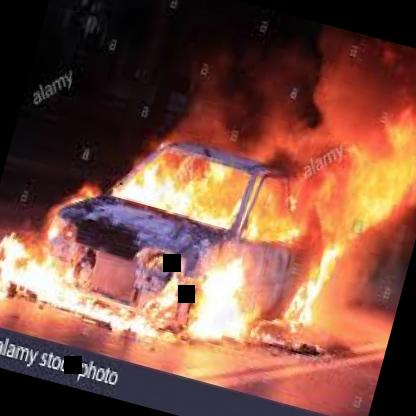fire: (0, 36, 416, 389)
